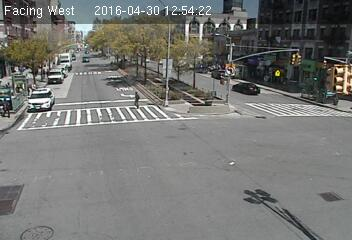neg: (137, 167, 168, 208), (4, 175, 33, 214), (241, 181, 269, 219), (307, 63, 333, 98), (302, 180, 328, 215), (264, 102, 288, 134), (190, 83, 212, 111), (81, 105, 102, 134), (28, 85, 47, 111), (92, 173, 111, 199), (151, 33, 169, 58), (72, 49, 90, 73), (48, 132, 66, 154), (222, 58, 239, 81), (273, 45, 287, 64)
pos: (129, 88, 145, 109)
